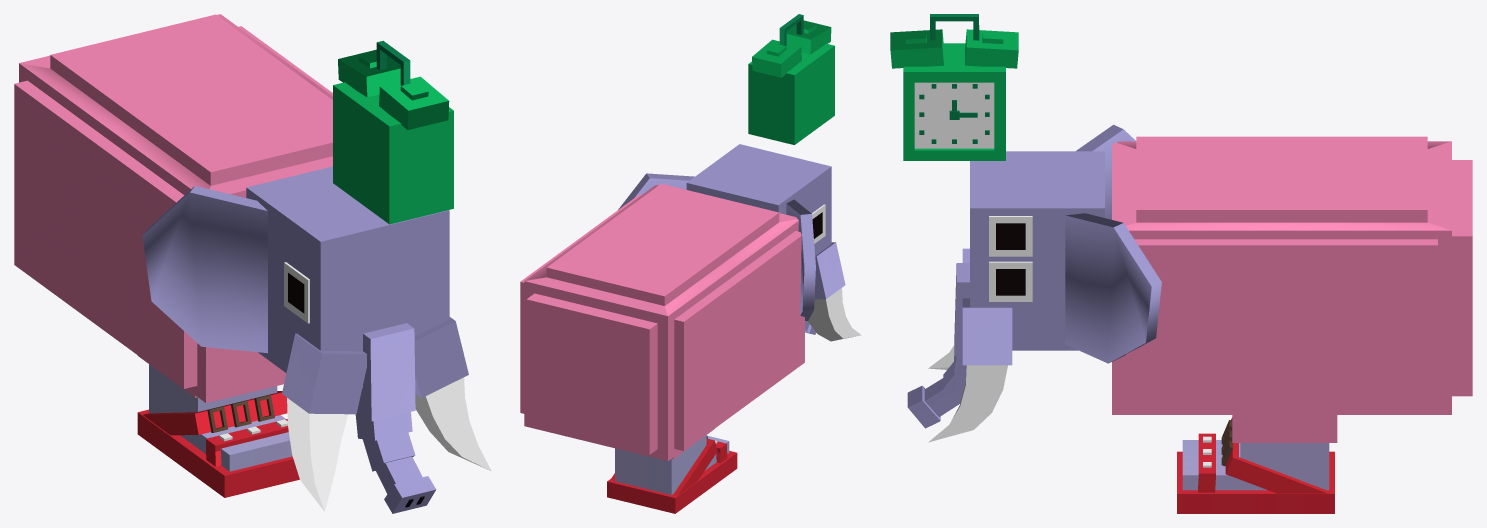
File: Lirili_Larila.fbx
3 views of the same model, side by side, from view 1: azimuth 30°, elevation 25°; view 2: azimuth 150°, elevation 25°; view 3: azimuth 270°, elevation 25° (orthographic). The views are drawn at different scales.
Parts seen in each view (by area): view 1: Lirili_Larila.006; view 2: Lirili_Larila.006; view 3: Lirili_Larila.006.
Boxes of the visible parts, x1,y1,x2,y2 form: Lirili_Larila.006: (14, 14, 491, 513); Lirili_Larila.006: (520, 14, 861, 513); Lirili_Larila.006: (890, 14, 1472, 513).
Size of the model in its own units: 0.8819 by 1.55 by 1.72.
